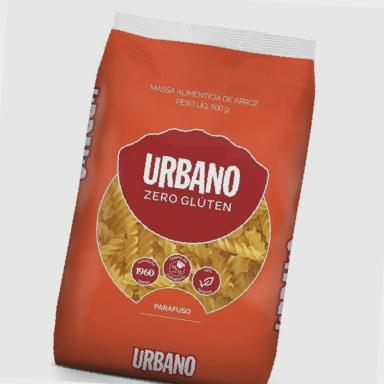pasta package: (55, 14, 314, 383)
